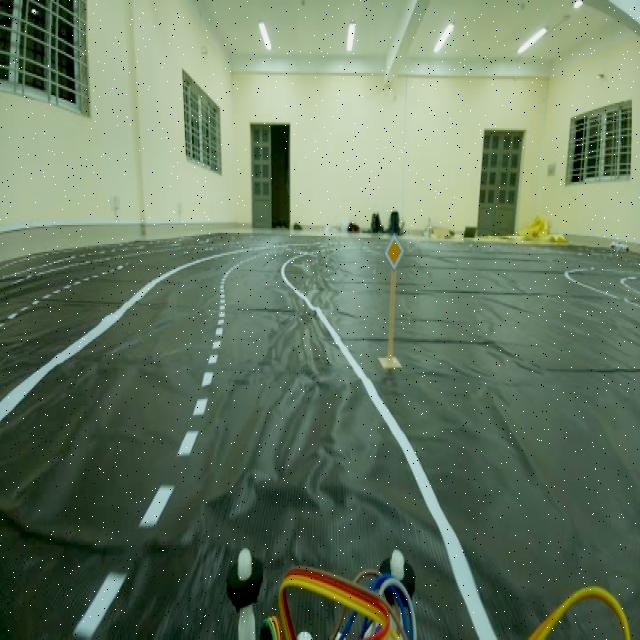priority: (384, 233, 406, 276)
